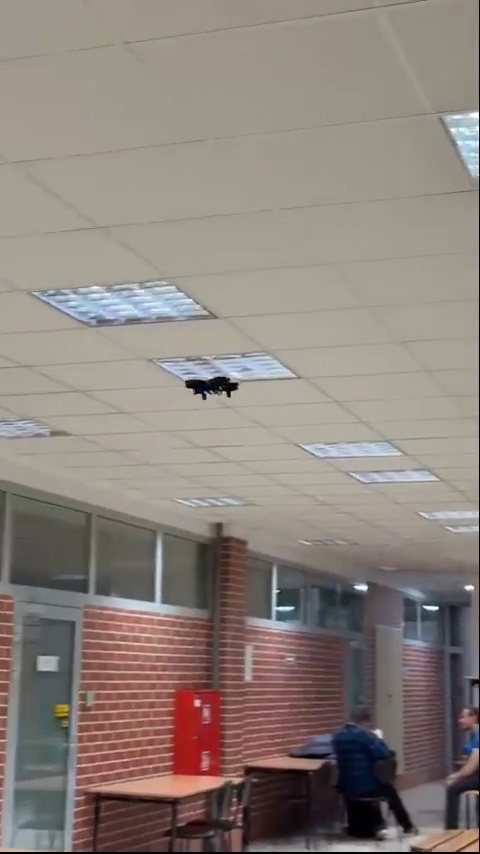drone: (186, 376, 239, 400)
no vest: (338, 699, 406, 808), (438, 703, 480, 805)
